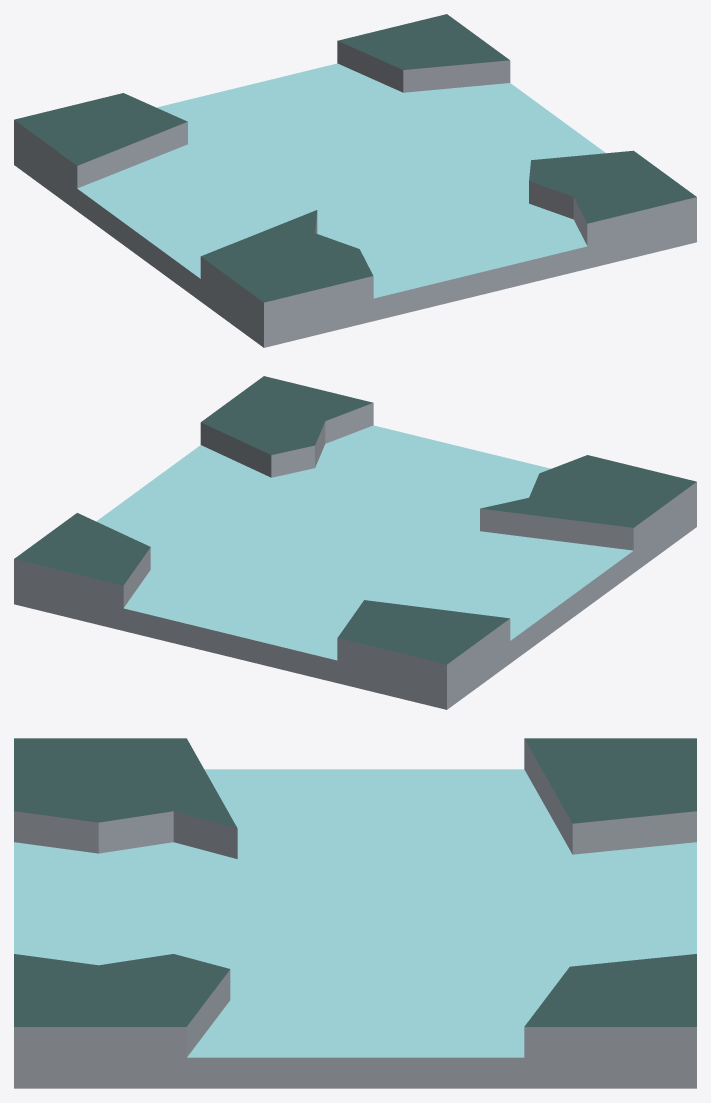
Rendered from naturePack_058.obj.
The picture shows the model from 3 angles, top to bottom: view 1: azimuth 30°, elevation 25°; view 2: azimuth 150°, elevation 25°; view 3: azimuth 270°, elevation 25°; orthographic projection. The views are drawn at different scales.
Parts seen in each view (by area): view 1: Water, Leafs, Mesh1 Plate_River_Dirt Model, Stone; view 2: Water, Leafs, Stone, Mesh1 Plate_River_Dirt Model; view 3: Water, Leafs, Stone, Mesh1 Plate_River_Dirt Model.
Part boxes in pixels (box(x1,y1,x2,y2)): Water: box(77, 63, 605, 298); Leafs: box(14, 14, 696, 302); Mesh1 Plate_River_Dirt Model: box(16, 166, 696, 347); Stone: box(14, 41, 695, 302); Water: box(96, 425, 632, 660); Leafs: box(14, 376, 696, 664); Stone: box(14, 403, 633, 709); Mesh1 Plate_River_Dirt Model: box(448, 482, 696, 708); Water: box(14, 769, 696, 1057); Leafs: box(14, 738, 696, 1026); Stone: box(14, 739, 696, 1088); Mesh1 Plate_River_Dirt Model: box(14, 1027, 691, 1088).
Size of the model in its own units: 3 by 0.3 by 3.
